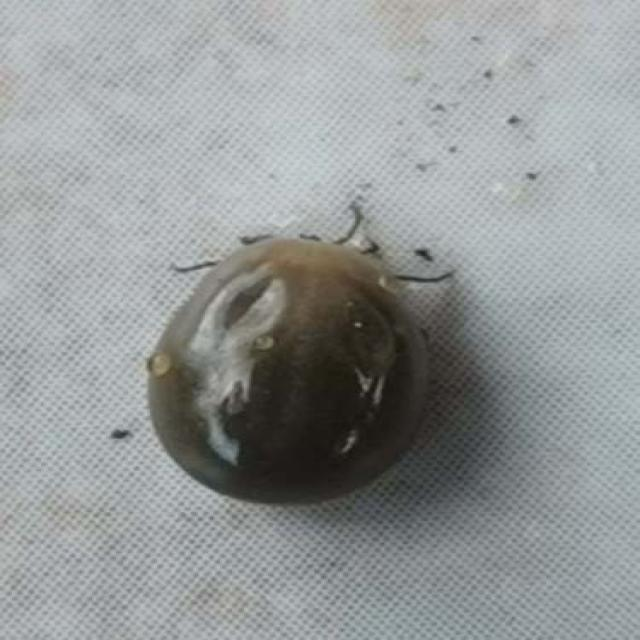Ixodes Ricinus-F-Fed: (145, 202, 452, 508)
